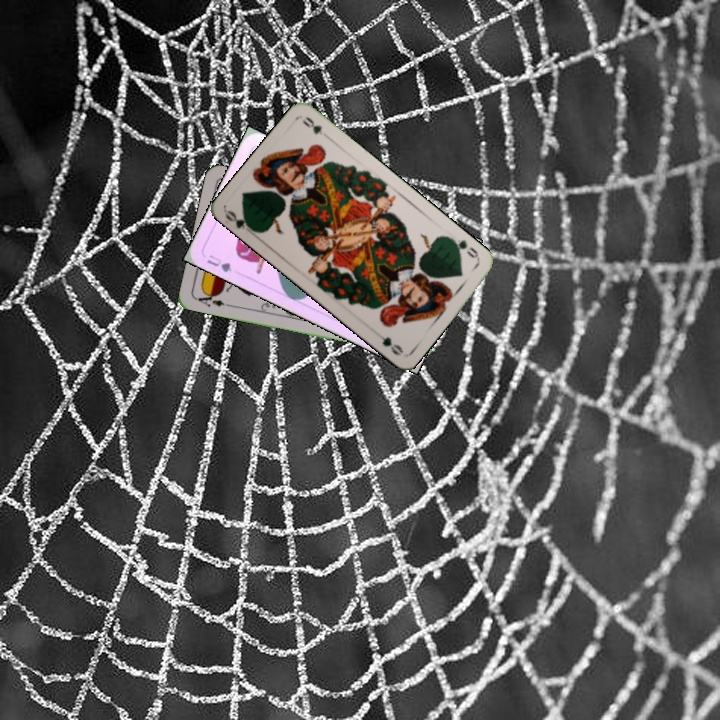EA: (193, 288, 227, 310)
GO: (221, 207, 260, 239), (447, 234, 482, 264)
GU: (203, 251, 234, 275)
